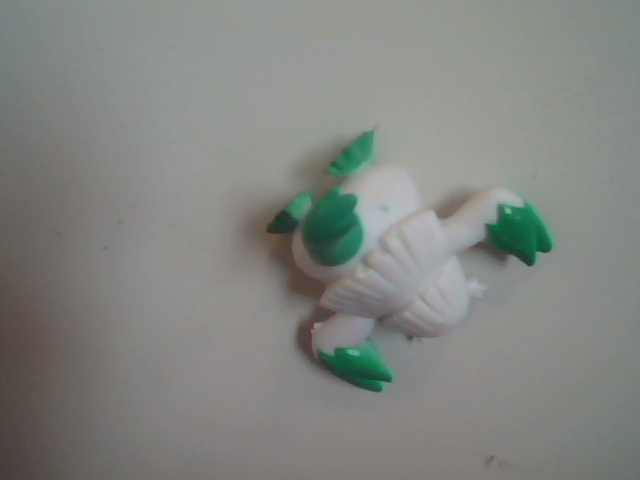abomasnow: (219, 72, 588, 410)
